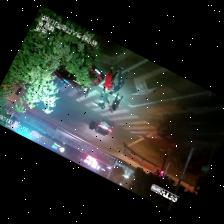person: (109, 65, 128, 93), (103, 66, 117, 91), (108, 93, 122, 111), (92, 90, 106, 108)
